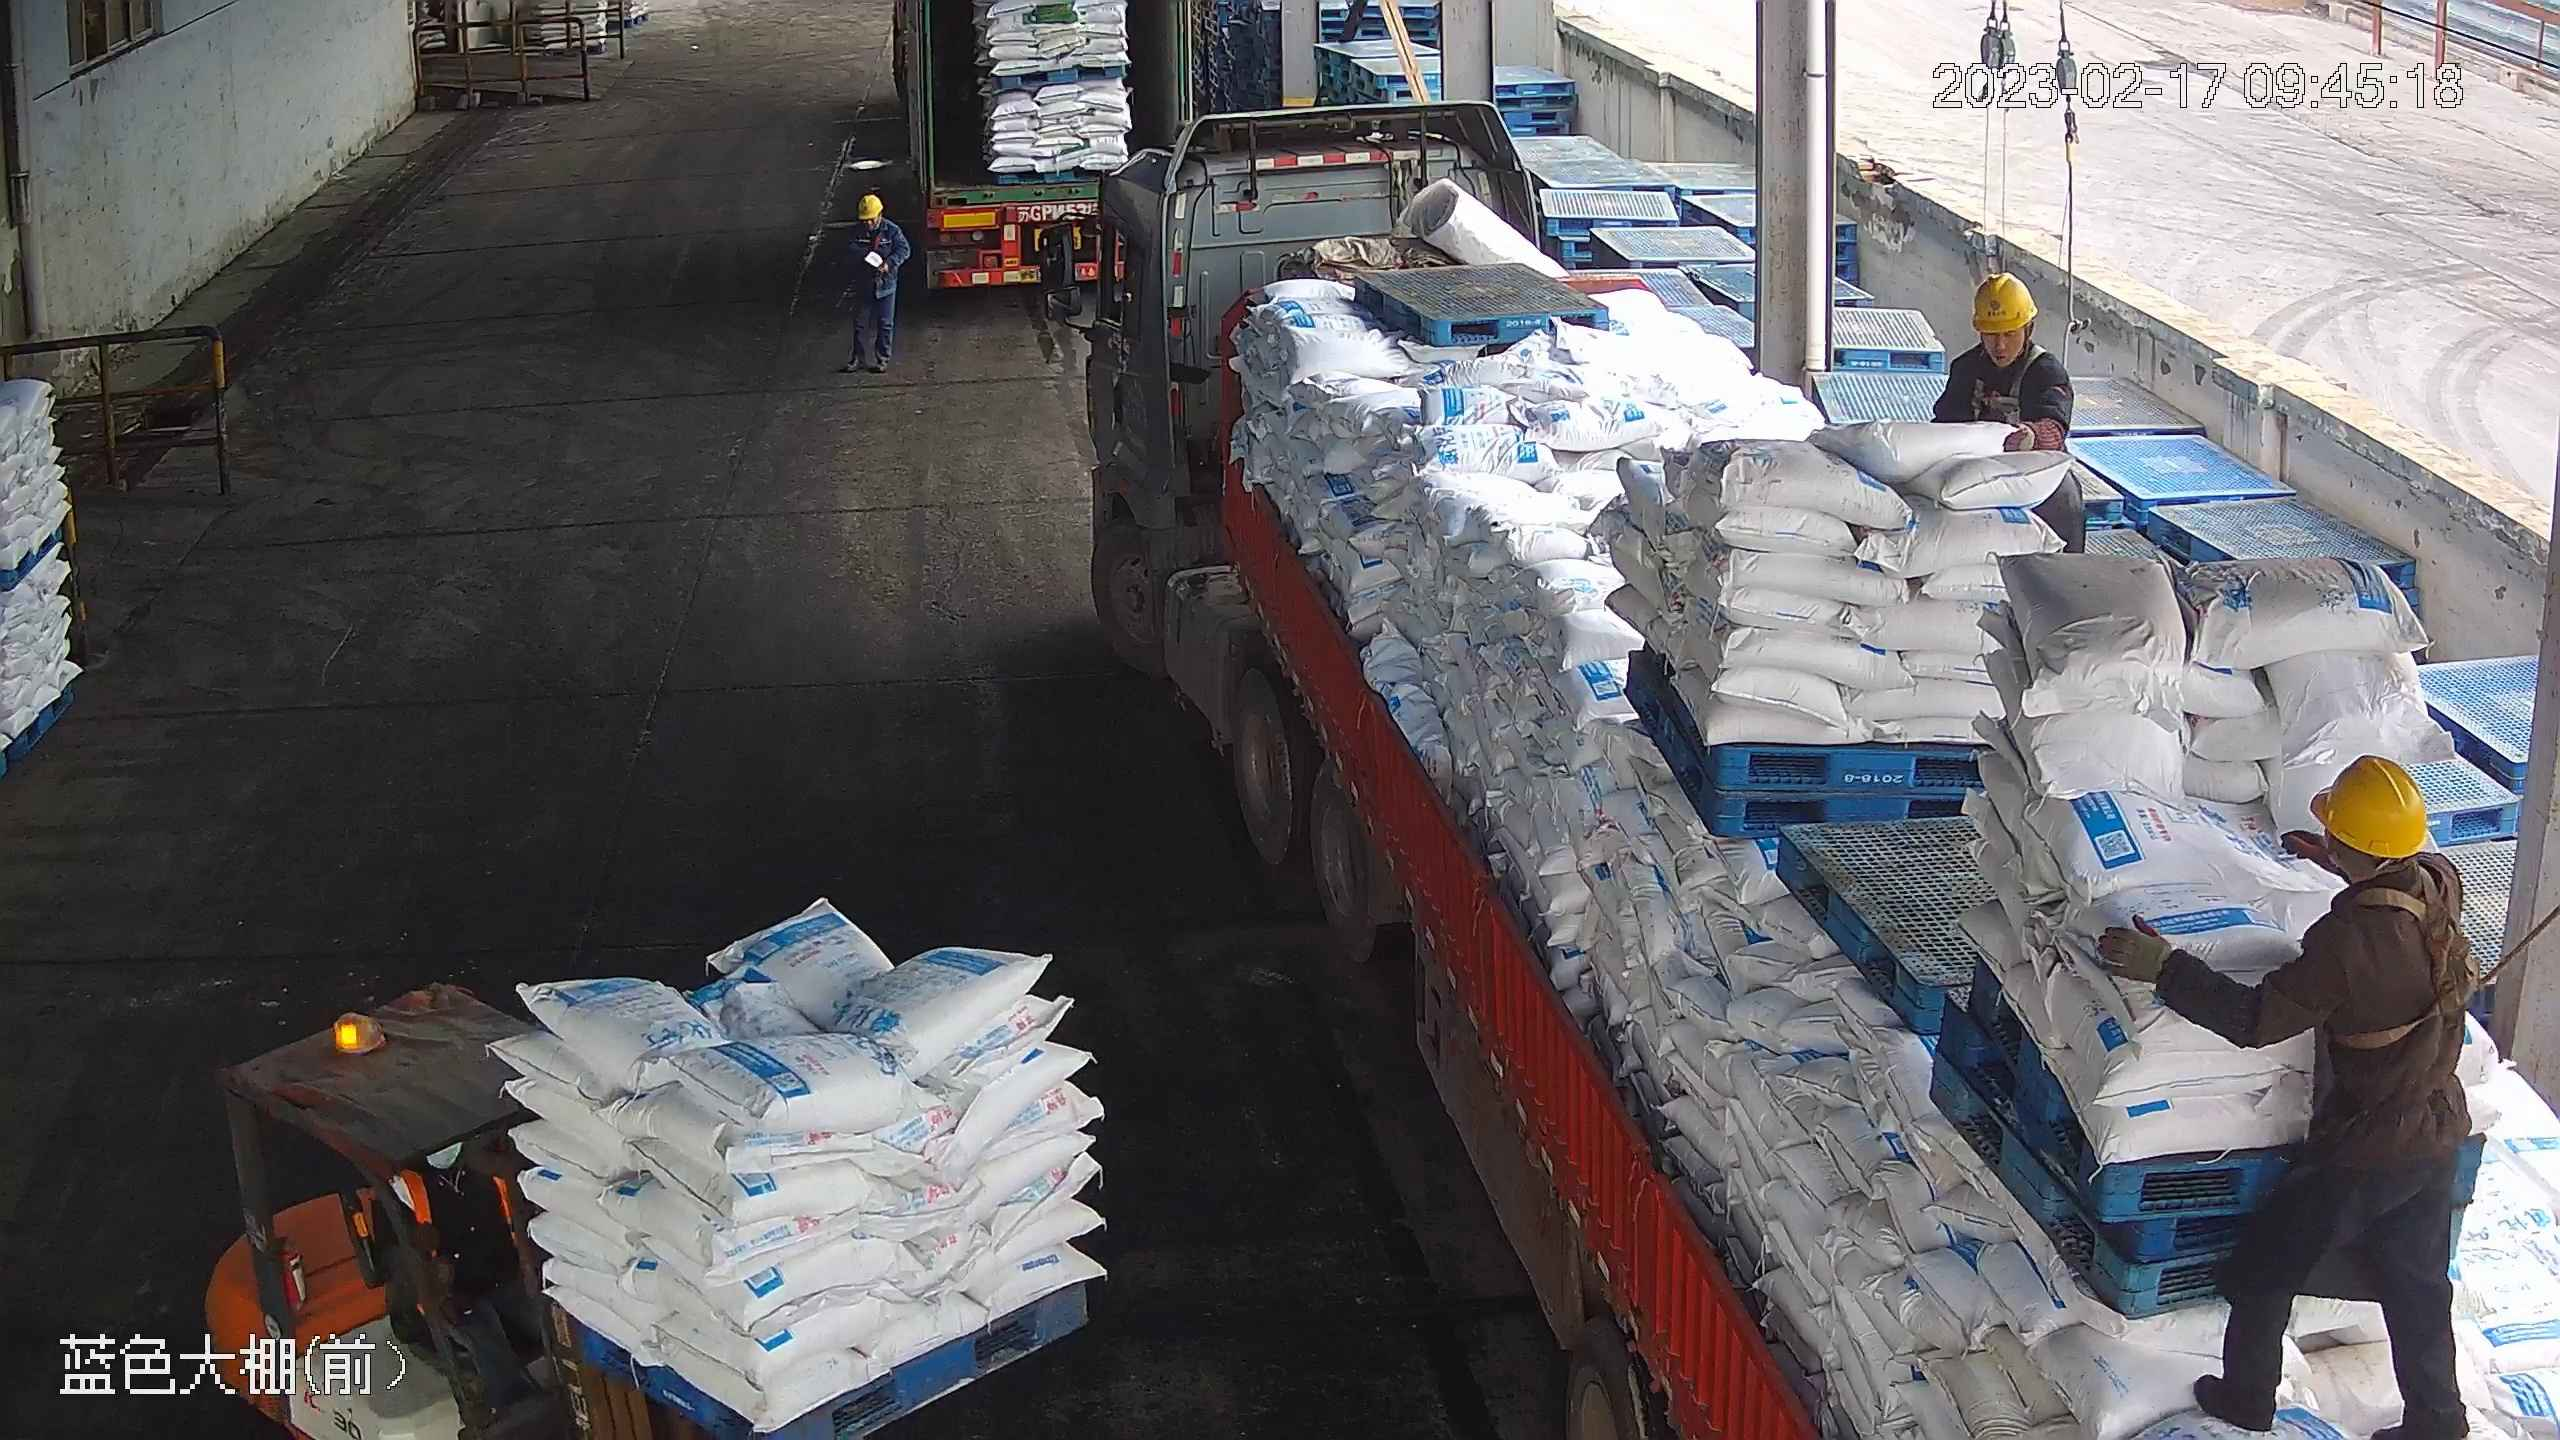belt: (2336, 873, 2492, 1048), (1974, 350, 2041, 428)
head: (2282, 754, 2463, 982), (1940, 263, 2072, 400), (842, 192, 898, 249)
helmet: (2311, 752, 2431, 858), (1969, 263, 2040, 334), (853, 192, 885, 217)
people: (2096, 752, 2484, 1433), (844, 192, 908, 372)
truck: (1055, 141, 2552, 1440), (896, 1, 1210, 308)
